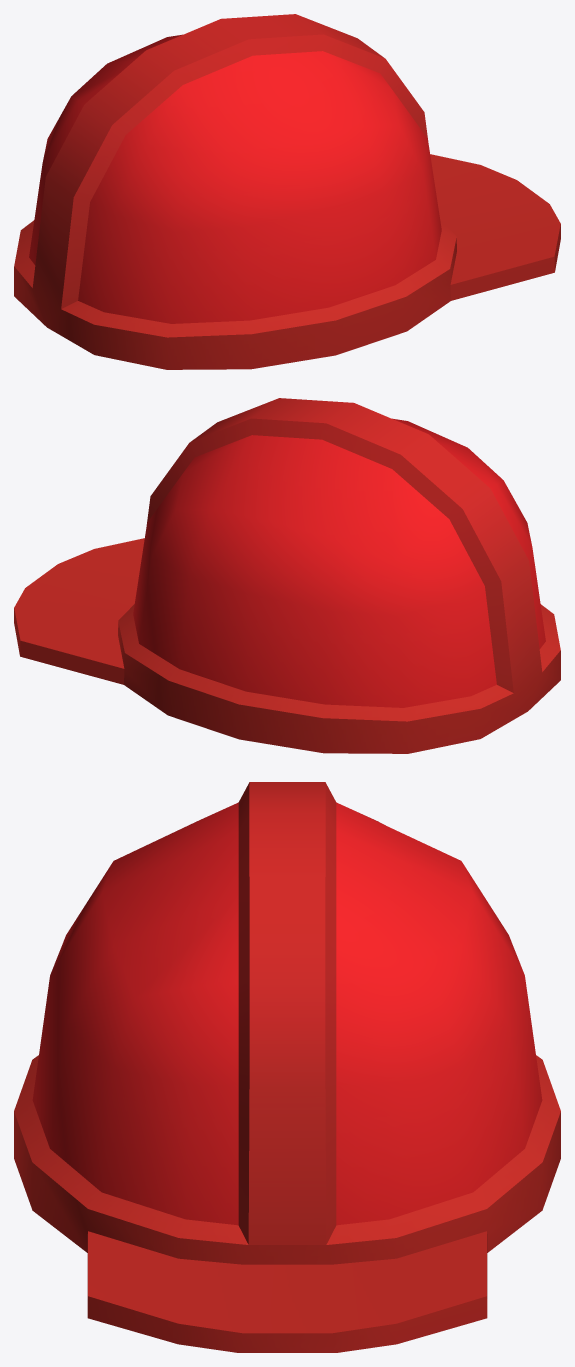
File: Helmet_1_3.fbx
The picture shows the model from 3 angles, top to bottom: view 1: azimuth 30°, elevation 25°; view 2: azimuth 150°, elevation 25°; view 3: azimuth 270°, elevation 25°; orthographic projection. The views are drawn at different scales.
Visible parts, largest first — view 1: Helmet_1_3; view 2: Helmet_1_3; view 3: Helmet_1_3.
Part boxes in pixels (x1,y1,x2,y2): Helmet_1_3: (14, 14, 560, 369); Helmet_1_3: (14, 398, 560, 753); Helmet_1_3: (14, 782, 560, 1352).
Size of the model in its own units: 71.35 by 35.46 by 51.02.
